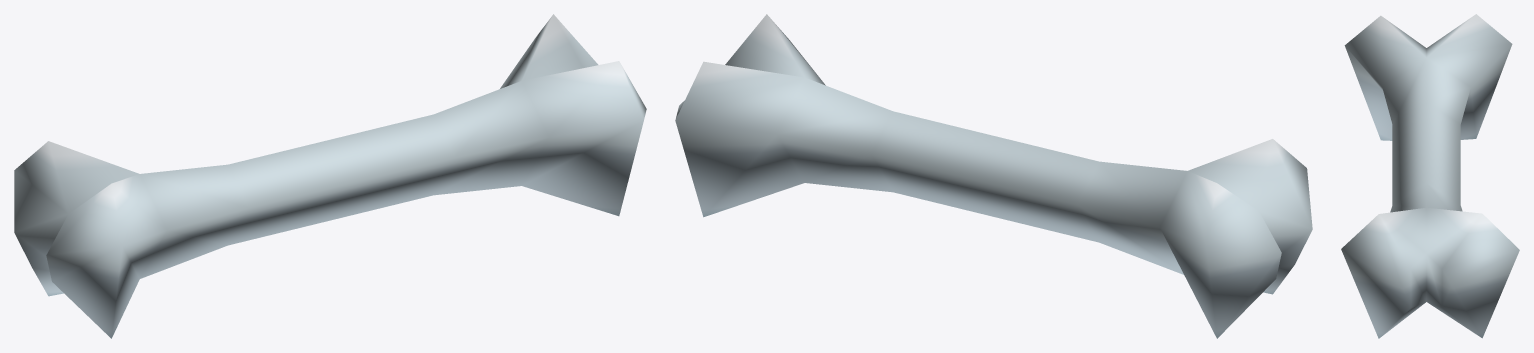
The model's file is Bone_5_color_1.FBX.
3 views of the same model, side by side, from view 1: azimuth 30°, elevation 25°; view 2: azimuth 150°, elevation 25°; view 3: azimuth 270°, elevation 25° (orthographic). The views are drawn at different scales.
Visible parts, largest first — view 1: Bone; view 2: Bone; view 3: Bone.
Part boxes in pixels (x1=…): Bone: x1=14, y1=14, x2=646, y2=338; Bone: x1=675, y1=14, x2=1312, y2=338; Bone: x1=1341, y1=14, x2=1519, y2=338.
Size of the model in its own units: 0.8808 by 0.2175 by 0.2824.
